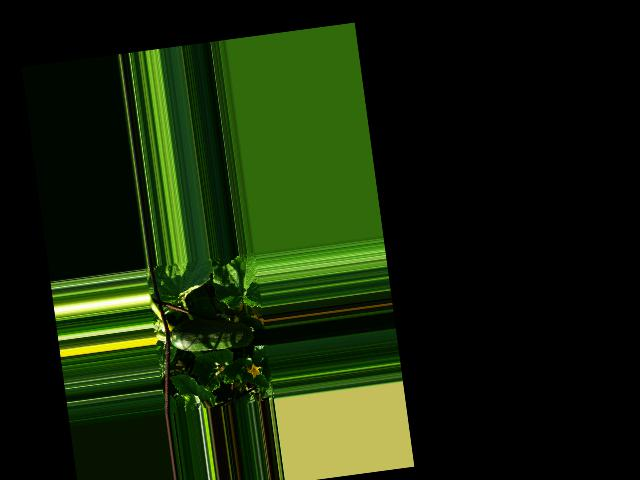cucumber: (168, 310, 255, 356)
